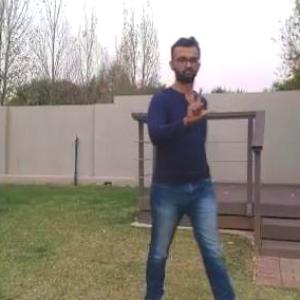land_hand: (183, 86, 221, 129)
